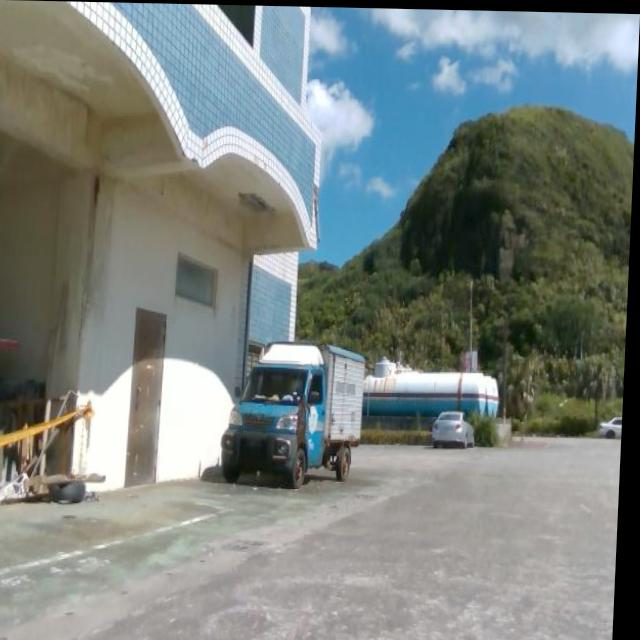pollute: (0, 391, 112, 507)
